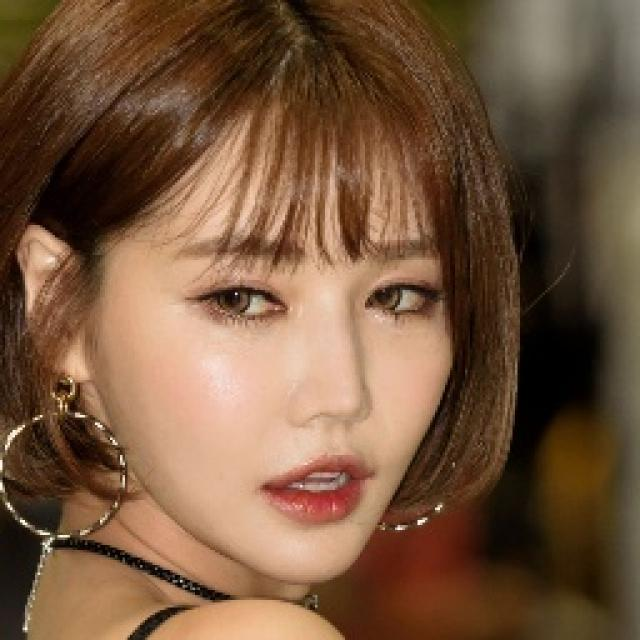earlobe: (47, 331, 94, 386)
eye: (197, 281, 284, 326), (366, 282, 438, 316)
nose: (292, 403, 375, 446)
wholeear: (9, 223, 94, 386)
